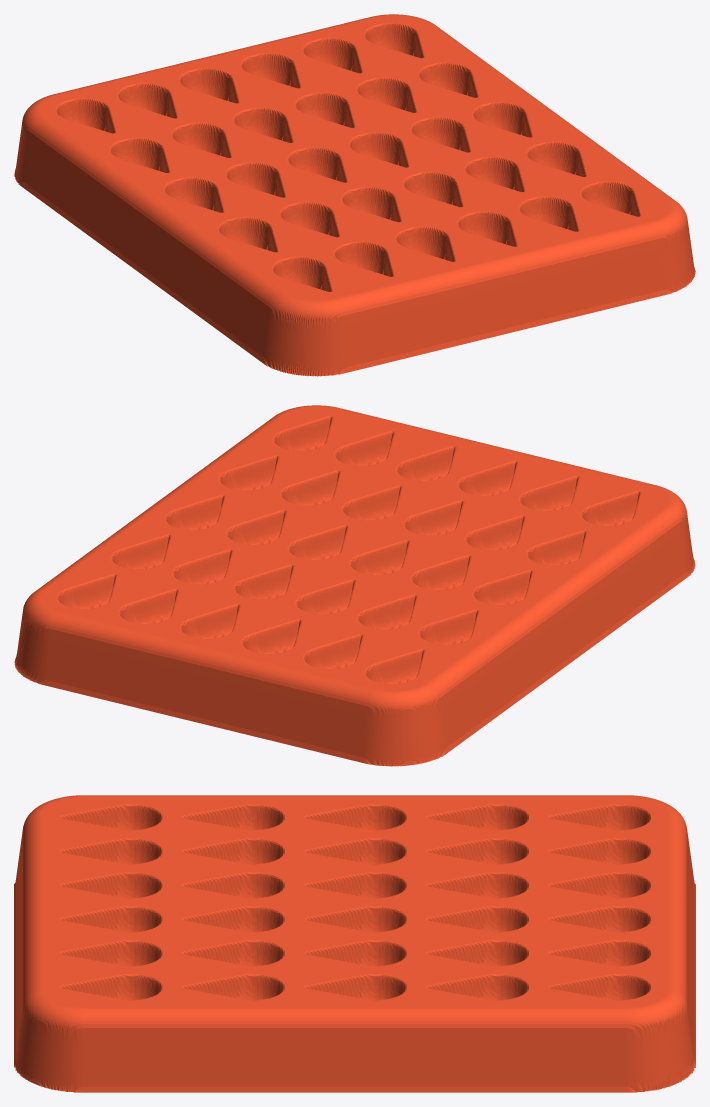
Rendered from mold.glb.
The picture shows the model from 3 angles, top to bottom: view 1: azimuth 30°, elevation 25°; view 2: azimuth 150°, elevation 25°; view 3: azimuth 270°, elevation 25°; orthographic projection. The views are drawn at different scales.
Visible parts, largest first — view 1: geometry_0; view 2: geometry_0; view 3: geometry_0.
Part boxes in pixels (box(x1,y1,x2,y2)): geometry_0: box(14, 14, 695, 376); geometry_0: box(14, 405, 695, 766); geometry_0: box(14, 795, 695, 1092).
Bounding box in the file's own units: 0.0716 × 0.0105 × 0.0882.
